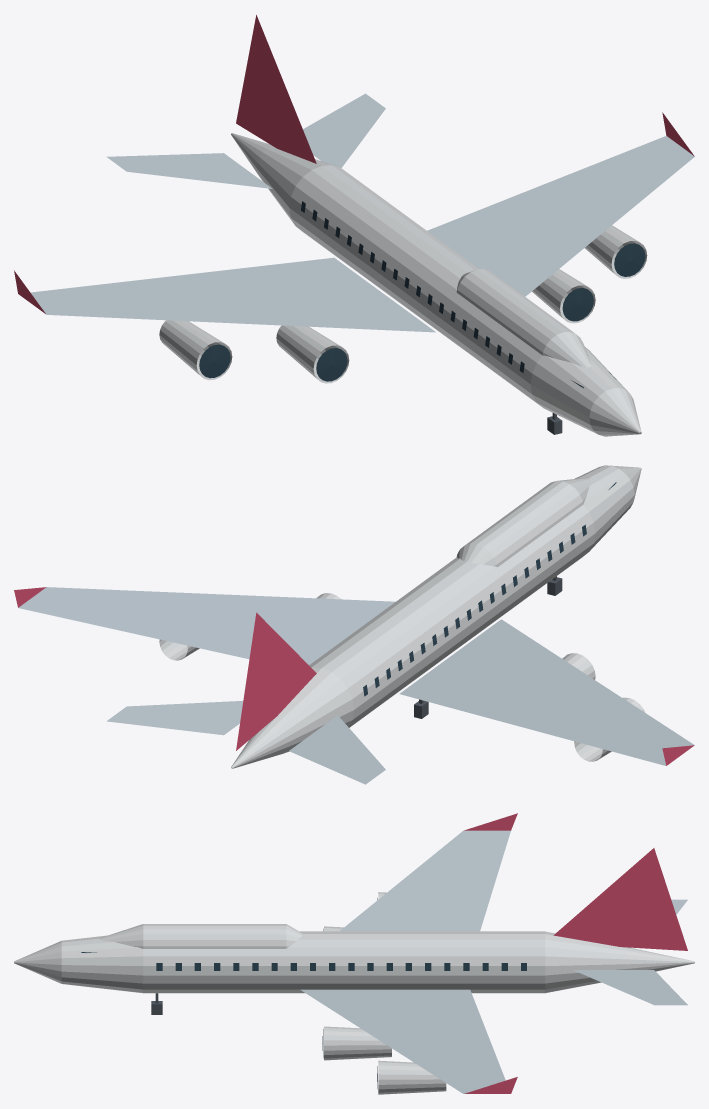
Rendered from b747-THY.gltf.
3 views of the same model, one above another, from view 1: azimuth 30°, elevation 25°; view 2: azimuth 150°, elevation 25°; view 3: azimuth 270°, elevation 25° (orthographic). The views are drawn at different scales.
Visible parts, largest first — view 1: object 1; view 2: object 1, Gear; view 3: object 1.
Part boxes in pixels (<box>): object 1: <box>14,15,694,436</box>; object 1: <box>14,465,694,784</box>; Gear: <box>414,576,562,718</box>; object 1: <box>14,813,694,1094</box>.
Bounding box in the file's own units: 65 × 19.04 × 71.
